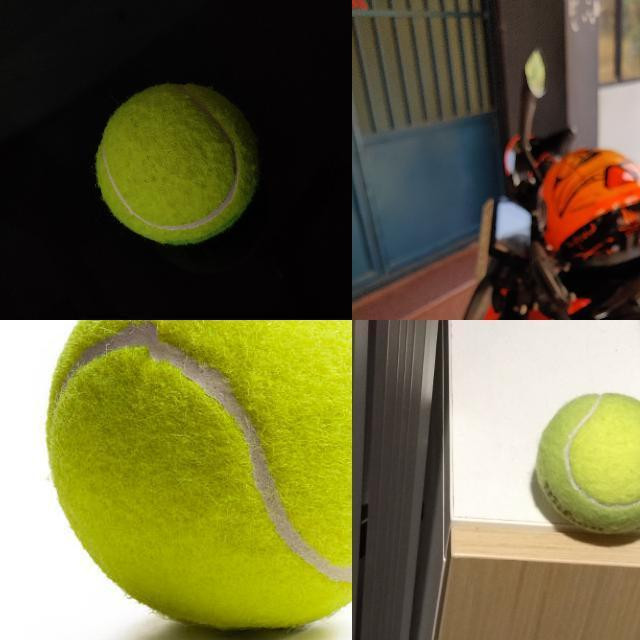tennis-ball: (44, 320, 351, 631), (96, 82, 261, 245), (534, 391, 639, 536)
